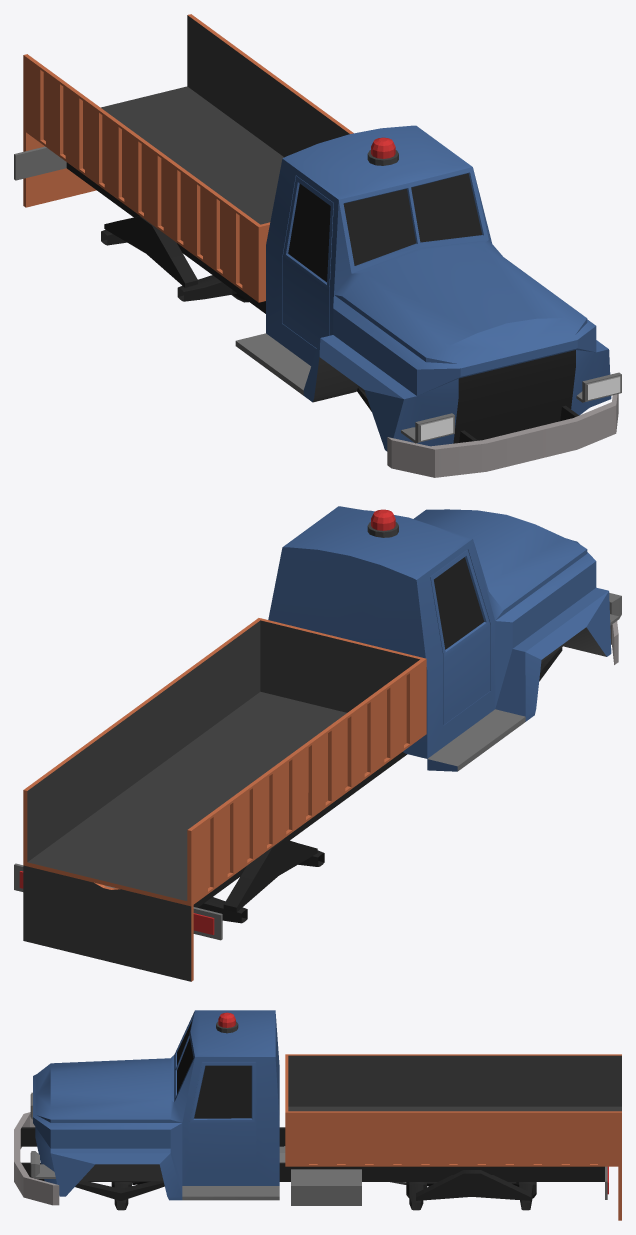
The model's file is Constructor truck.fbx.
3 views of the same model, one above another, from view 1: azimuth 30°, elevation 25°; view 2: azimuth 150°, elevation 25°; view 3: azimuth 270°, elevation 25° (orthographic). The views are drawn at different scales.
Parts seen in each view (by area): view 1: Contructor truck; view 2: Contructor truck; view 3: Contructor truck.
Part boxes in pixels (x1,y1,x2,y2): Contructor truck: [14, 14, 621, 477]; Contructor truck: [14, 506, 621, 981]; Contructor truck: [14, 1010, 621, 1220].
Bounding box in the file's own units: 294 × 319 × 954.
